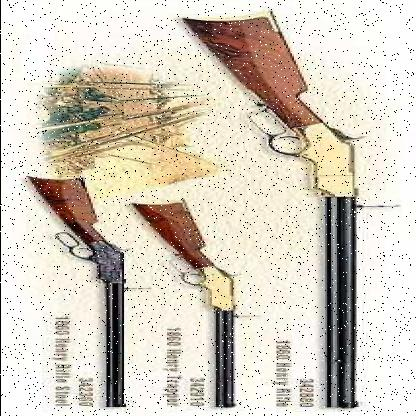rifle: (150, 12, 389, 411), (121, 193, 270, 413), (13, 173, 148, 415)
